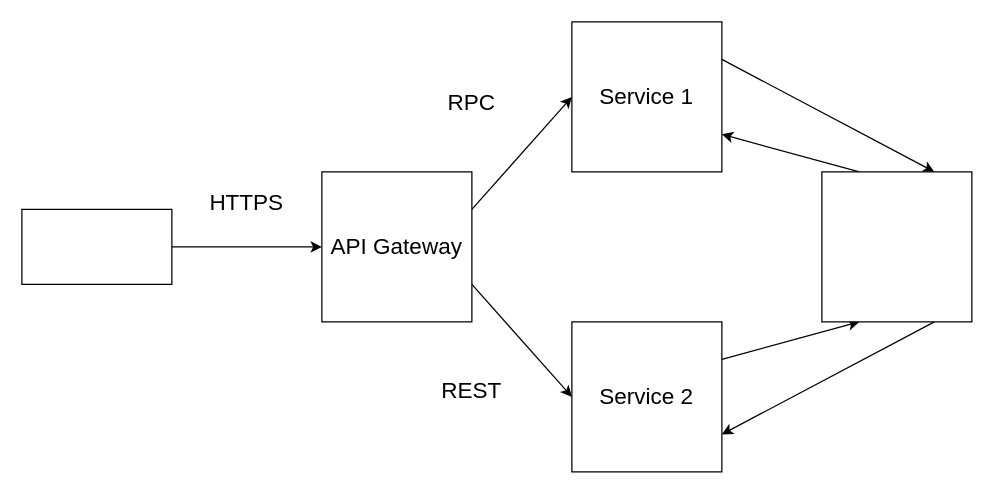
Image size: 994x494. Some labels were removed from this diagram. Each missing label, with the centre of its shape:
"Client" goes at [96,246].
"Message Broker" goes at [896,246].
